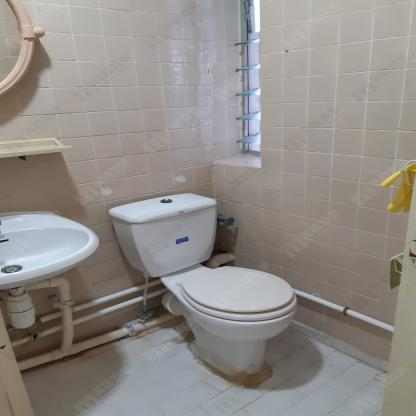Toilet: (106, 190, 300, 381)
Toilet Sink: (0, 210, 101, 290)
